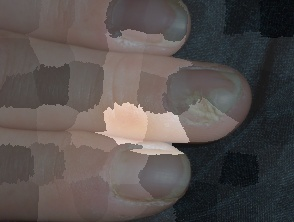Nail_psoriasis: (83, 124, 201, 222), (152, 60, 251, 137), (95, 0, 194, 53)
